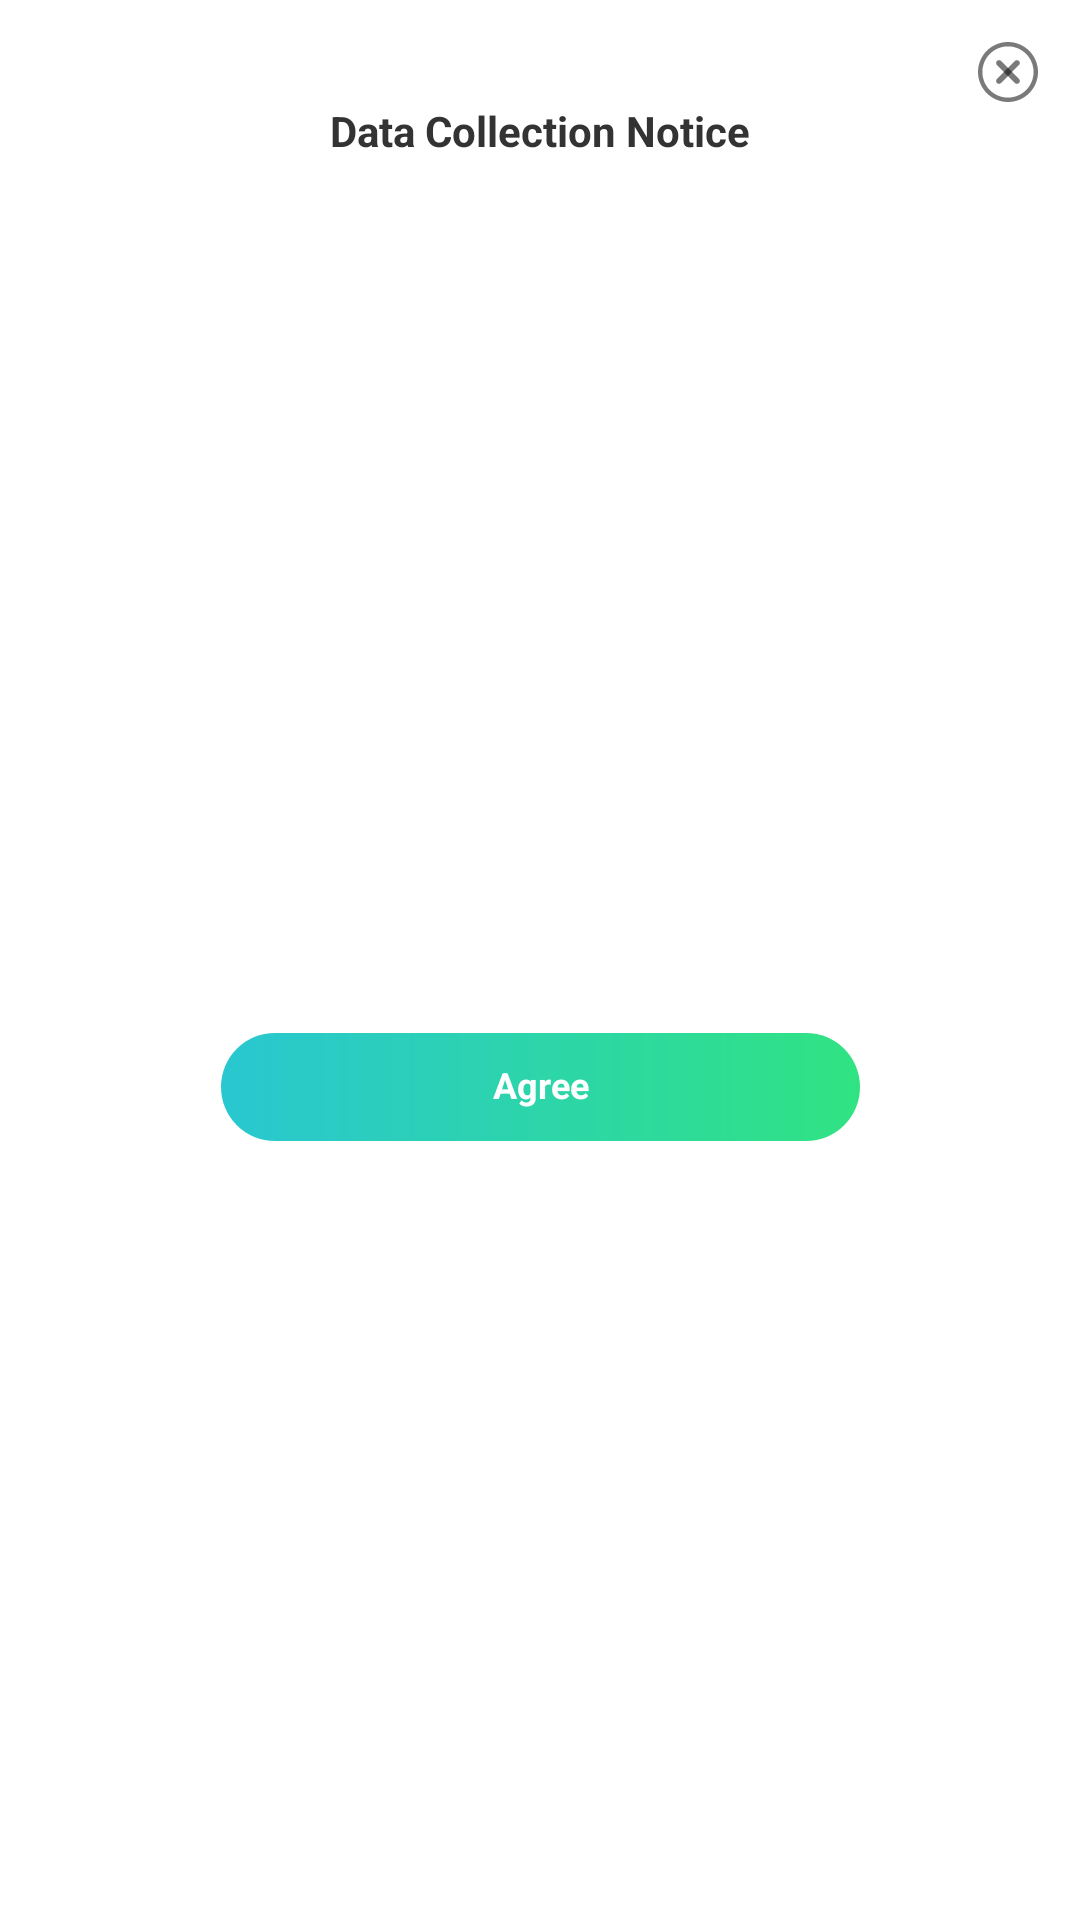

Where icons sit on this 1080px x 1920px app screen, as (x1, y1, x2, y2):
close dialog: (978, 42, 1038, 102)
